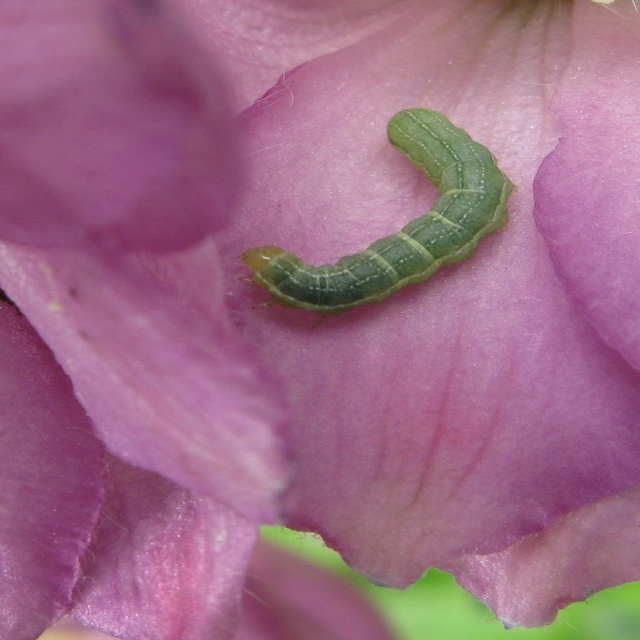Caterpillar: (244, 107, 513, 316)
